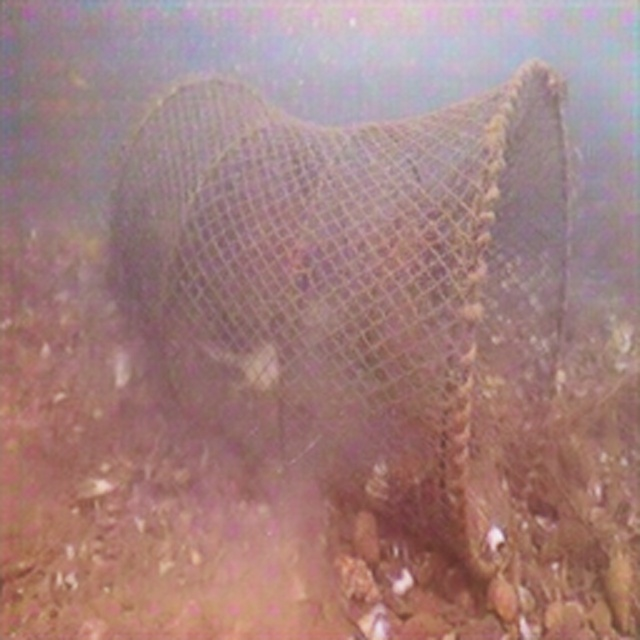mine: (107, 59, 572, 587)
